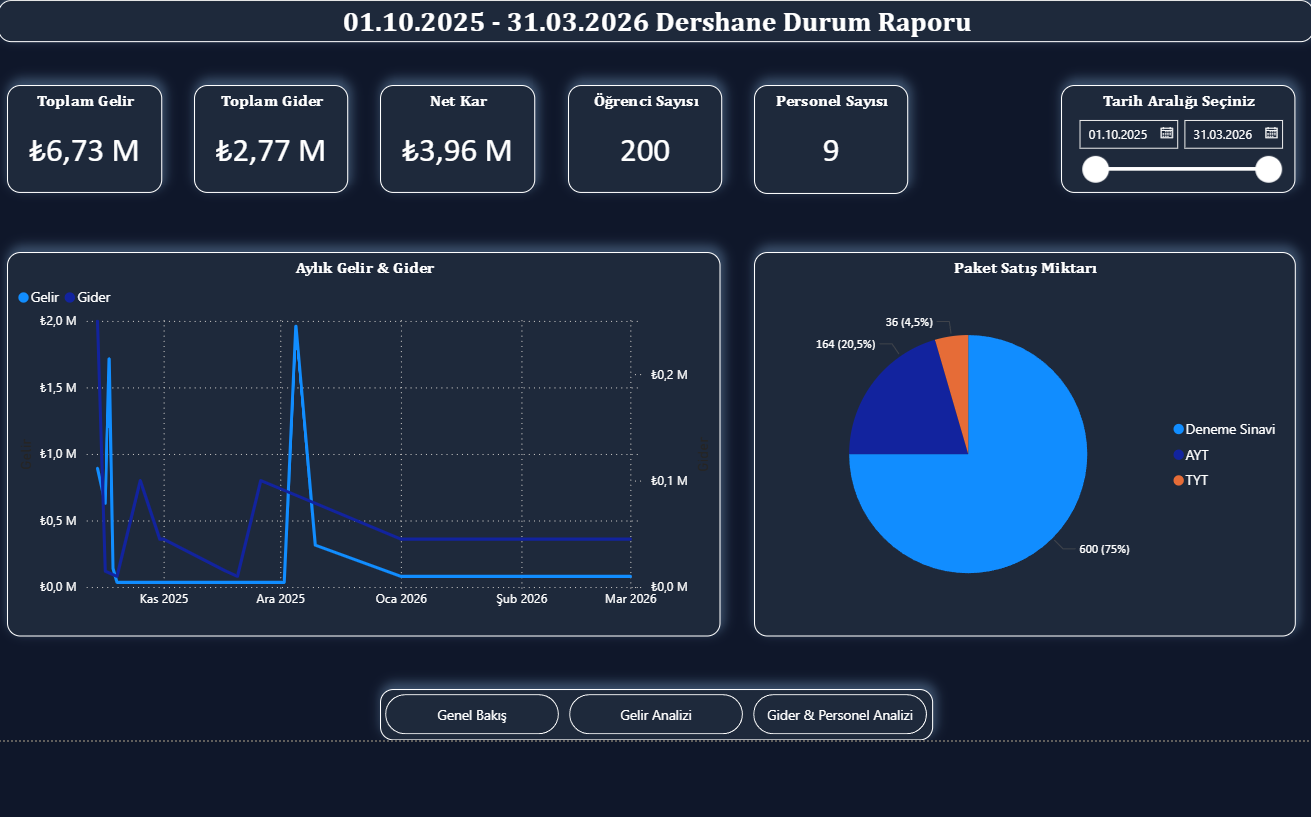

What the dashboard file says about the page in this screenshot:
{"tool":"powerbi","page":{"name":"Genel Bakış","canvas":[1280,720],"ordinal":0},"visuals":[{"type":"card","title":"Toplam Gelir","fields":{"Values":["Sum(gelirler.tutar)"]},"box":[8.5,82.5,150.8,105],"z":0},{"type":"card","title":"Toplam Gider","fields":{"Values":["giderler.Gider"]},"box":[190.7,82.5,149.8,105],"z":1000},{"type":"card","title":"Net Kar","fields":{"Values":["gelirler.Net Kar"]},"box":[372,82.5,150.8,105],"z":2000},{"type":"card","title":"Öğrenci Sayısı","fields":{"Values":["ogrenciler.Ogrenci Sayisi"]},"box":[554.3,82.5,149.8,105],"z":3000},{"type":"shape","title":"01.10.2025 - 31.03.2026 Dershane Durum Raporu","box":[0,0,1280.4,40.8],"z":4000},{"type":"lineChart","title":"Aylık Gelir & Gider","fields":{"Y":["Sum(gelirler.tutar)"],"Y2":["Sum(giderler.tutar)"],"Category":["gelirler.tarih"]},"box":[8.9,244.7,694.3,374.2],"z":5000},{"type":"slicer","title":"Tarih Aralığı Seçiniz","fields":{"Values":["giderler.tarih"]},"box":[1033.9,82.5,227.9,104.6],"z":6000},{"type":"card","title":"Personel Sayısı","fields":{"Values":["personel.Personel Sayisi"]},"box":[735.5,82.5,149.9,105.5],"z":7000},{"type":"pieChart","title":"Paket Satış Miktarı","fields":{"Category":["paketler.paket_adi"],"Y":["paketler.Paket Satış Miktarı"]},"box":[735.1,244.7,526.7,374.2],"z":8000},{"type":"pageNavigator","box":[371.1,670.2,537.9,49.6],"z":9000}]}

Visuals, with their boxes on the page's 1280x720 design canvas (x1, y1, x2, y2). These are canvas units, not pixel positions in the 1311x817 screenshot, which may show the page scaled, cropped or inside an application window:
"Toplam Gelir" card: bbox(8, 82, 159, 188)
"Toplam Gider" card: bbox(191, 82, 340, 188)
"Net Kar" card: bbox(372, 82, 523, 188)
"Öğrenci Sayısı" card: bbox(554, 82, 704, 188)
"01.10.2025 - 31.03.2026 Dershane Durum Raporu" shape: bbox(0, 0, 1280, 41)
"Aylık Gelir & Gider" lineChart: bbox(9, 245, 703, 619)
"Tarih Aralığı Seçiniz" slicer: bbox(1034, 82, 1262, 187)
"Personel Sayısı" card: bbox(736, 82, 885, 188)
"Paket Satış Miktarı" pieChart: bbox(735, 245, 1262, 619)
pageNavigator: bbox(371, 670, 909, 720)
